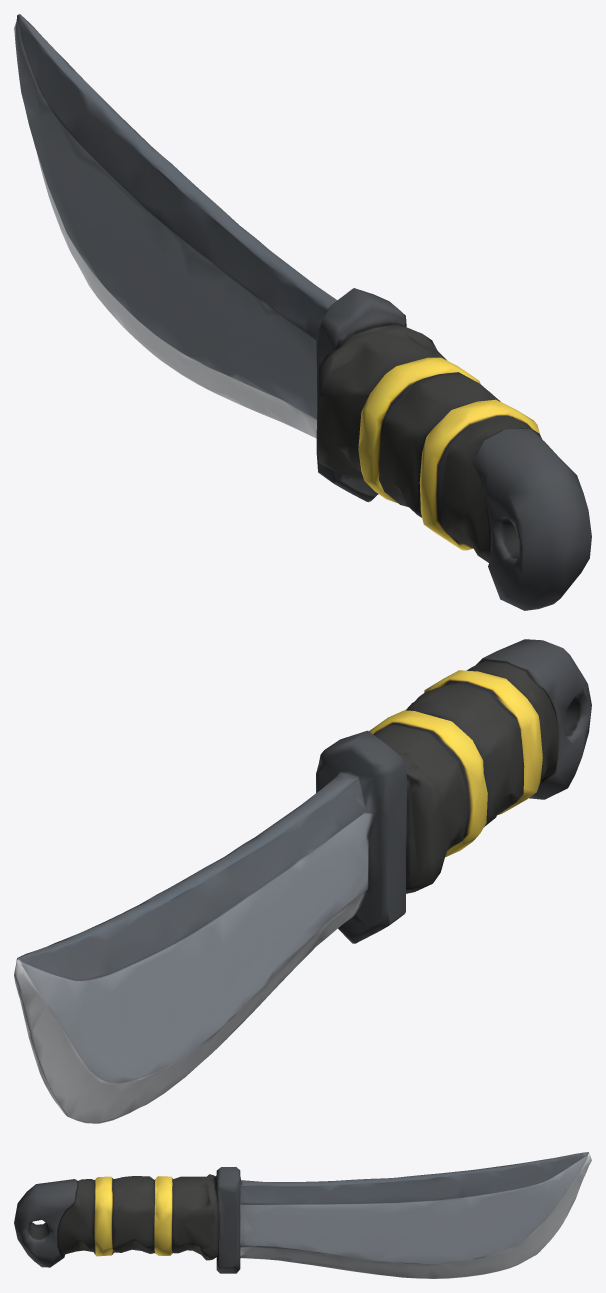
Rendered from machete_tripo_raw.glb.
The picture shows the model from 3 angles, top to bottom: view 1: azimuth 30°, elevation 25°; view 2: azimuth 150°, elevation 25°; view 3: azimuth 270°, elevation 25°; orthographic projection. The views are drawn at different scales.
Parts seen in each view (by area): view 1: tripo_node_86462edd-620d-4cde-87d0-1f60d6afc455; view 2: tripo_node_86462edd-620d-4cde-87d0-1f60d6afc455; view 3: tripo_node_86462edd-620d-4cde-87d0-1f60d6afc455.
Boxes of the visible parts, bbox=[...] form: tripo_node_86462edd-620d-4cde-87d0-1f60d6afc455: bbox=[14, 14, 591, 610]; tripo_node_86462edd-620d-4cde-87d0-1f60d6afc455: bbox=[14, 639, 591, 1123]; tripo_node_86462edd-620d-4cde-87d0-1f60d6afc455: bbox=[14, 1152, 591, 1278].
Bounding box in the file's own units: 0.1233 × 0.2416 × 1.
1 material, 1 textured.
